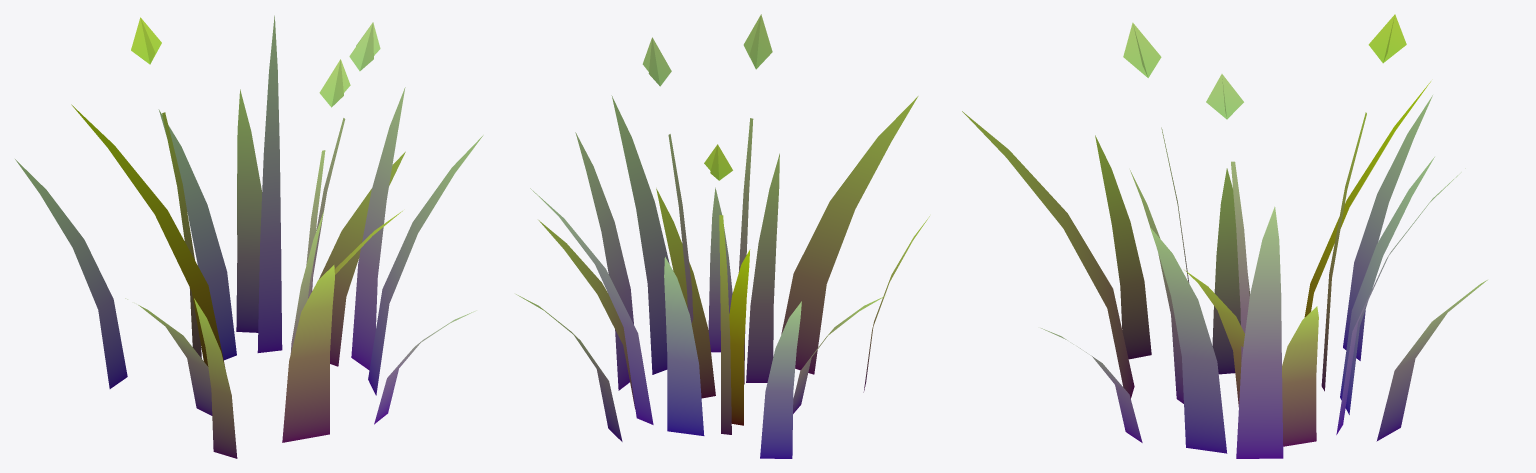
File: grass_wild.glb
The picture shows the model from 3 angles, left to right: view 1: azimuth 30°, elevation 25°; view 2: azimuth 150°, elevation 25°; view 3: azimuth 270°, elevation 25°; orthographic projection. The views are drawn at different scales.
Visible parts, largest first — view 1: grass_wild; view 2: grass_wild; view 3: grass_wild.
Part boxes in pixels (x1,y1,x2,y2): grass_wild: (15,15,483,458); grass_wild: (516,14,929,458); grass_wild: (962,14,1487,458).
Bounding box in the file's own units: 0.4747 × 0.4984 × 0.6431.
